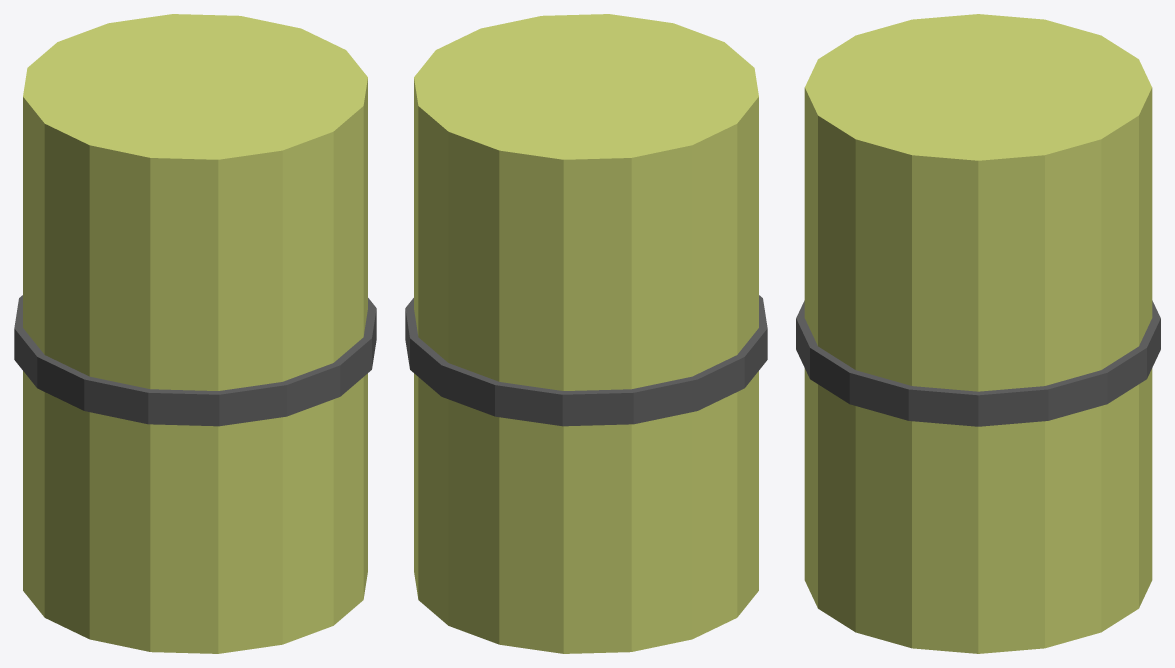
Rendered from Prop_Barrel_Toxic.fbx.
3 views of the same model, side by side, from view 1: azimuth 30°, elevation 25°; view 2: azimuth 150°, elevation 25°; view 3: azimuth 270°, elevation 25° (orthographic).
Visible parts, largest first — view 1: Prop_Barrel_Toxic; view 2: Prop_Barrel_Toxic; view 3: Prop_Barrel_Toxic.
Part boxes in pixels (x1,y1,x2,y2): Prop_Barrel_Toxic: [14, 14, 376, 653]; Prop_Barrel_Toxic: [405, 14, 767, 653]; Prop_Barrel_Toxic: [796, 14, 1160, 653].
Size of the model in its own units: 0.63 by 0.94 by 0.63.
